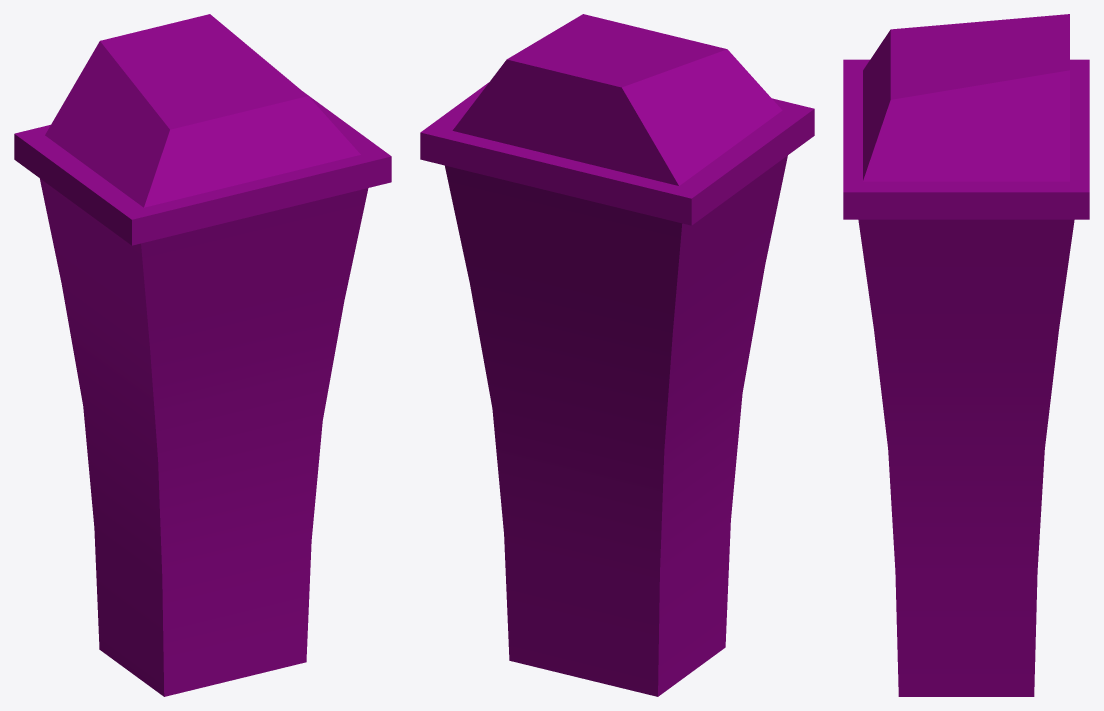
File: Dustbin2.FBX
3 renders of one model, left to right at view 1: azimuth 30°, elevation 25°; view 2: azimuth 150°, elevation 25°; view 3: azimuth 270°, elevation 25°, orthographic. The views are drawn at different scales.
Parts seen in each view (by area): view 1: PRP_Dustbin2_1; view 2: PRP_Dustbin2_1; view 3: PRP_Dustbin2_1.
Boxes of the visible parts, x1=… form: PRP_Dustbin2_1: x1=14, y1=14, x2=391, y2=696; PRP_Dustbin2_1: x1=420, y1=14, x2=814, y2=696; PRP_Dustbin2_1: x1=843, y1=14, x2=1089, y2=696.
Bounding box in the file's own units: 49.34 × 107 × 38.72.
